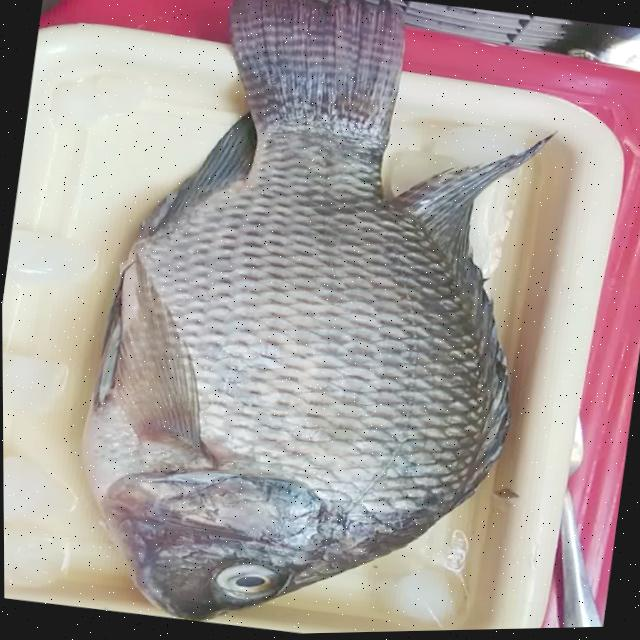Fresh: (79, 211, 506, 566), (193, 545, 298, 615)
